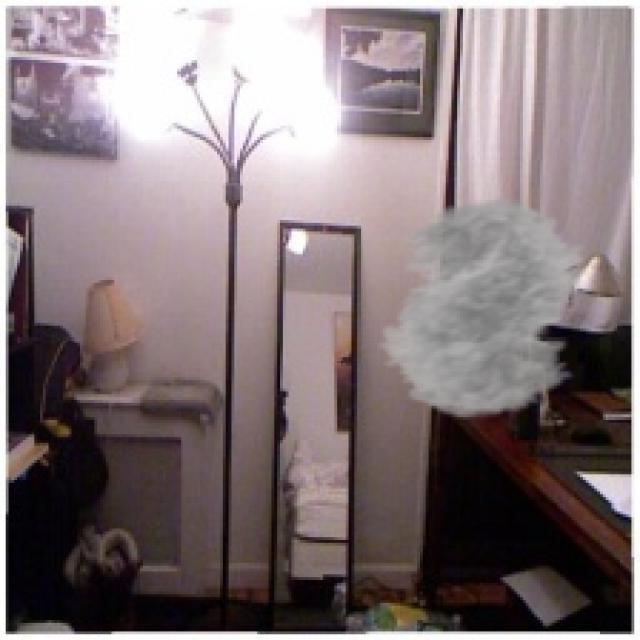Smoke: (360, 197, 614, 420)
